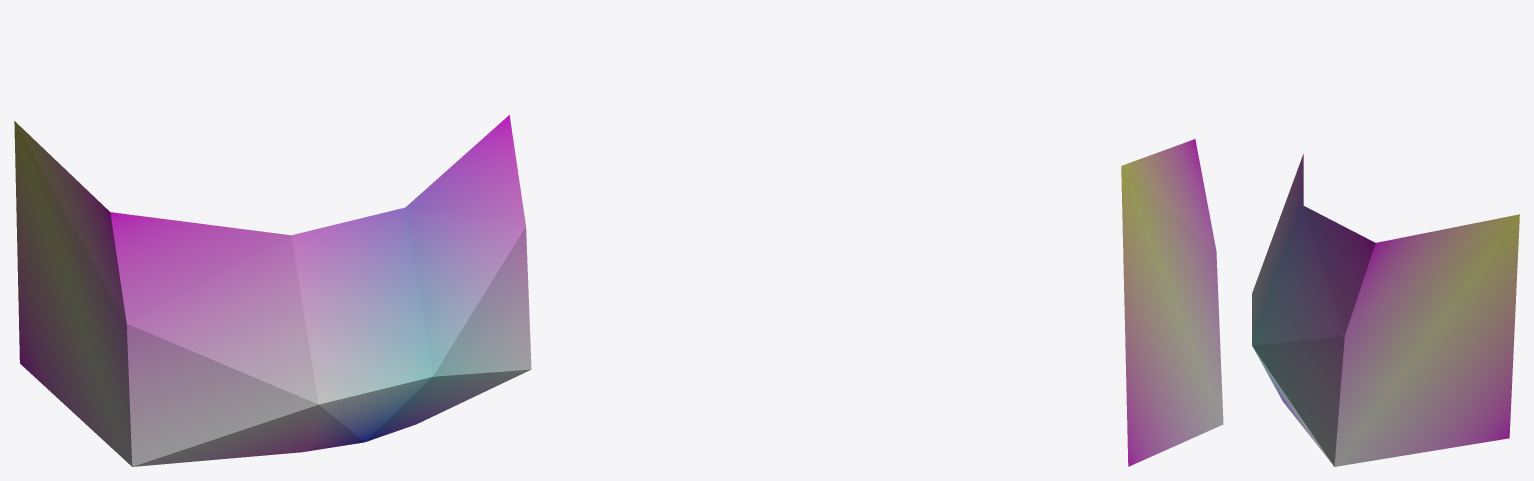
3 views of the same model, side by side, from view 1: azimuth 30°, elevation 25°; view 2: azimuth 150°, elevation 25°; view 3: azimuth 270°, elevation 25° (orthographic). The views are drawn at different scales.
Parts seen in each view (by area): view 1: model_1146; view 2: model_1146; view 3: model_1146.
Boxes of the visible parts, x1,y1,x2,y2 form: model_1146: (14, 115, 531, 466); model_1146: (1121, 139, 1223, 466); model_1146: (1252, 154, 1519, 466).
Bounding box in the file's own units: 46 × 28 × 26.
